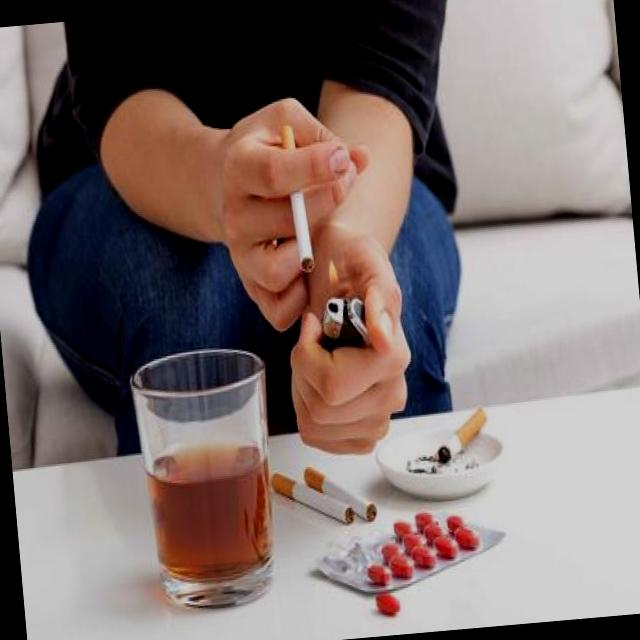smoke: (280, 105, 318, 282)
